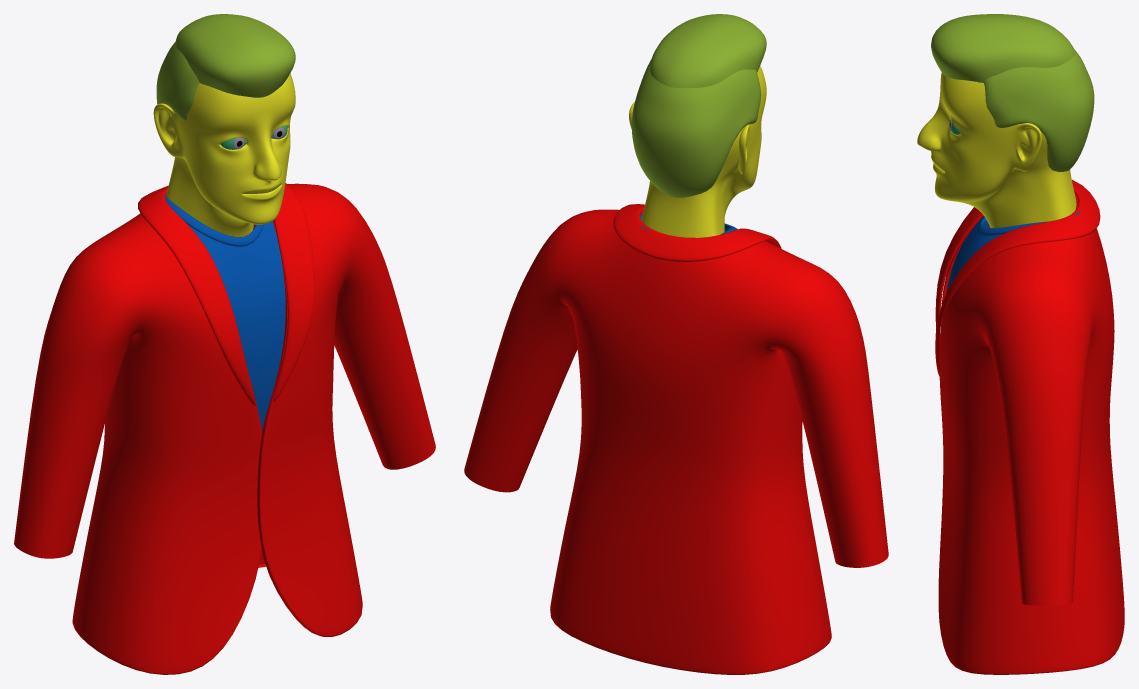
File: Character.fbx
3 views of the same model, side by side, from view 1: azimuth 30°, elevation 25°; view 2: azimuth 150°, elevation 25°; view 3: azimuth 270°, elevation 25° (orthographic). The views are drawn at different scales.
Visible parts, largest first — view 1: pCube3, pCube1, pCube8, pCube2_Dup_1, pCube2; view 2: pCube3, pCube2, pCube2_Dup_1, pCube1; view 3: pCube3, pCube1, pCube2, pCube2_Dup_1, pCube8.
Part boxes in pixels (x1,y1,x2,y2): pCube3: [14, 183, 435, 674]; pCube1: [153, 73, 295, 237]; pCube8: [165, 195, 285, 431]; pCube2_Dup_1: [175, 14, 295, 97]; pCube2: [156, 42, 199, 120]; pCube3: [464, 204, 888, 674]; pCube2: [631, 59, 761, 197]; pCube2_Dup_1: [649, 14, 766, 87]; pCube1: [629, 66, 766, 237]; pCube3: [935, 180, 1124, 674]; pCube1: [917, 72, 1076, 227]; pCube2: [984, 49, 1094, 171]; pCube2_Dup_1: [931, 14, 1075, 82]; pCube8: [946, 211, 1079, 292].
Size of the model in its own units: 88.95 by 124 by 38.59.
